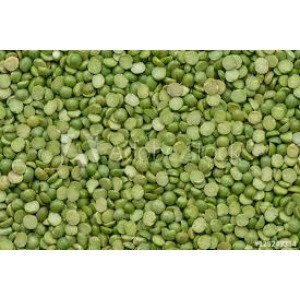green pea_brain food: (60, 96, 185, 217)
